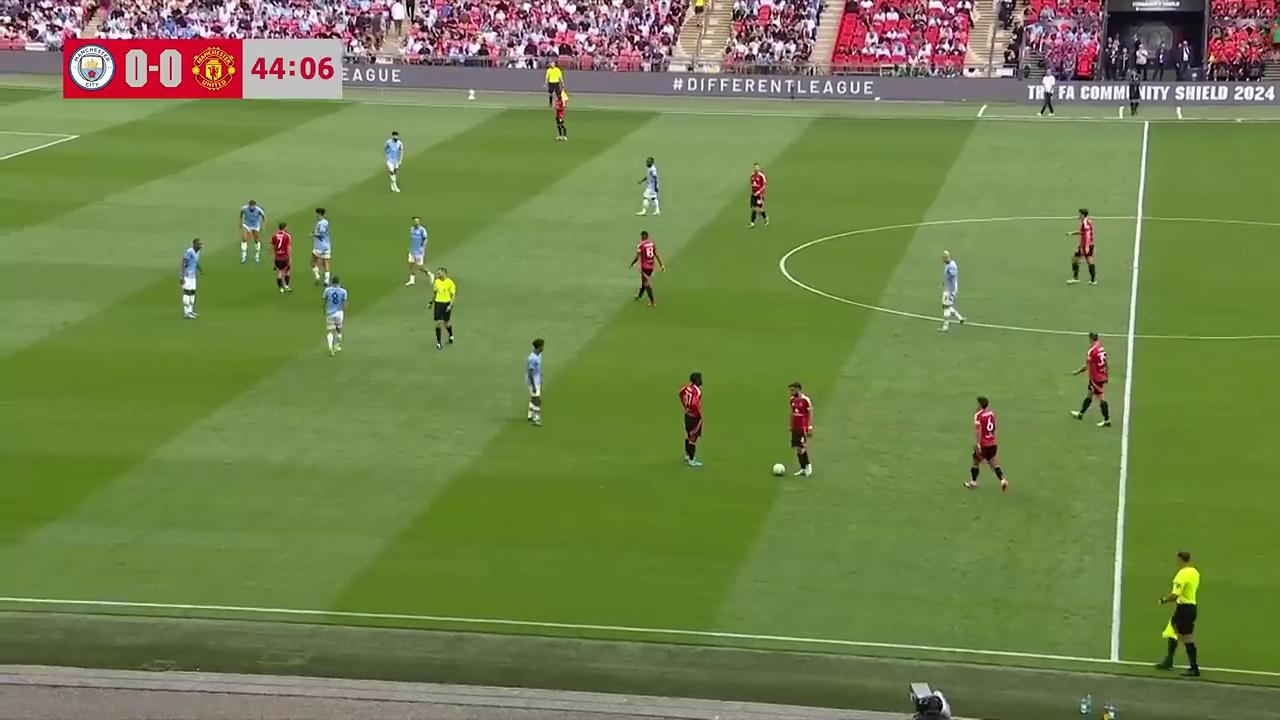ball: (771, 459, 785, 477)
player: (963, 396, 1008, 492), (1070, 331, 1110, 426), (629, 230, 665, 307), (678, 370, 704, 466), (788, 382, 814, 478), (1066, 208, 1097, 285), (179, 237, 205, 319), (939, 250, 965, 331), (322, 275, 347, 353), (238, 198, 266, 265), (525, 338, 545, 426), (309, 207, 331, 286), (405, 215, 429, 286), (270, 221, 293, 293), (637, 157, 660, 216), (383, 129, 404, 192), (748, 165, 769, 228), (551, 87, 568, 141)
referee: (1156, 549, 1202, 676), (427, 267, 458, 349), (543, 61, 564, 108)
